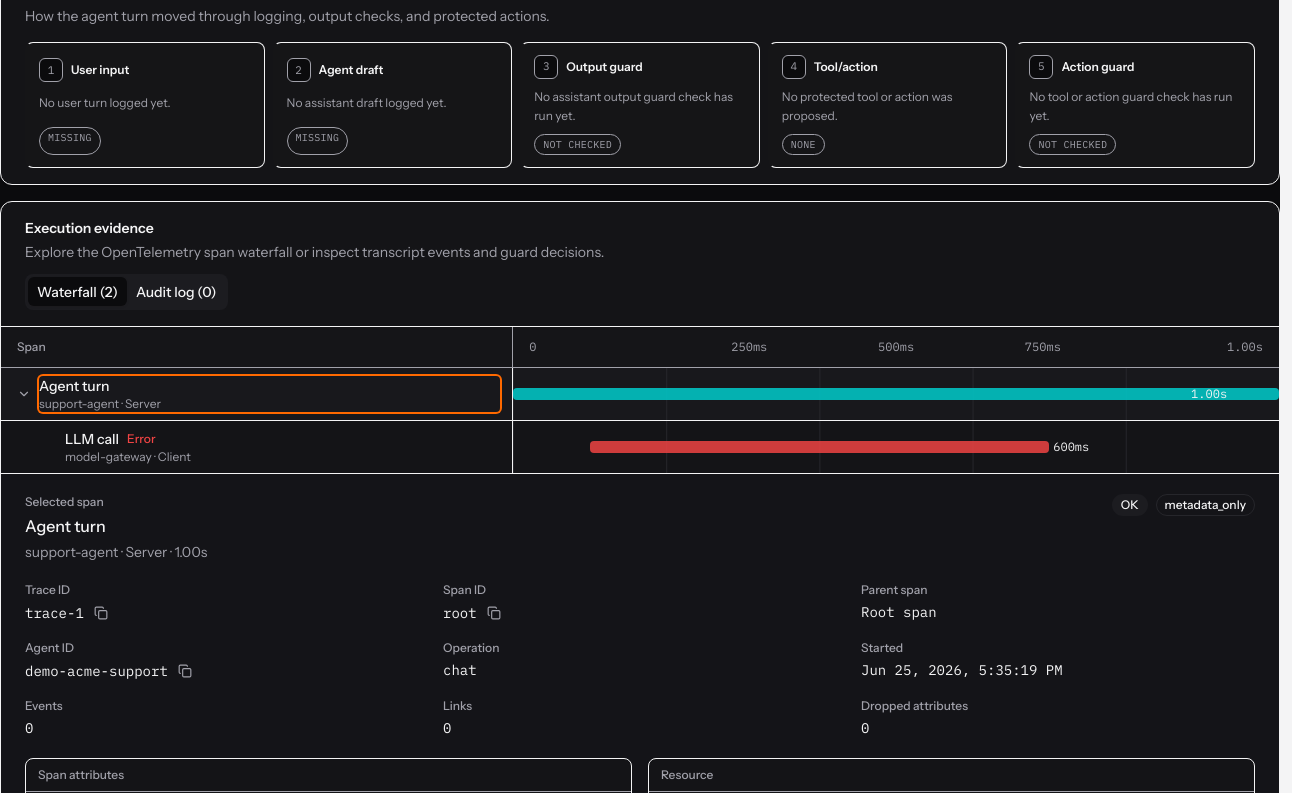
Scenario: RunDetailLiveView › renders an accessible span waterfall with tree navigation and collapse controls
(page scrolled)
Press Arrowdown
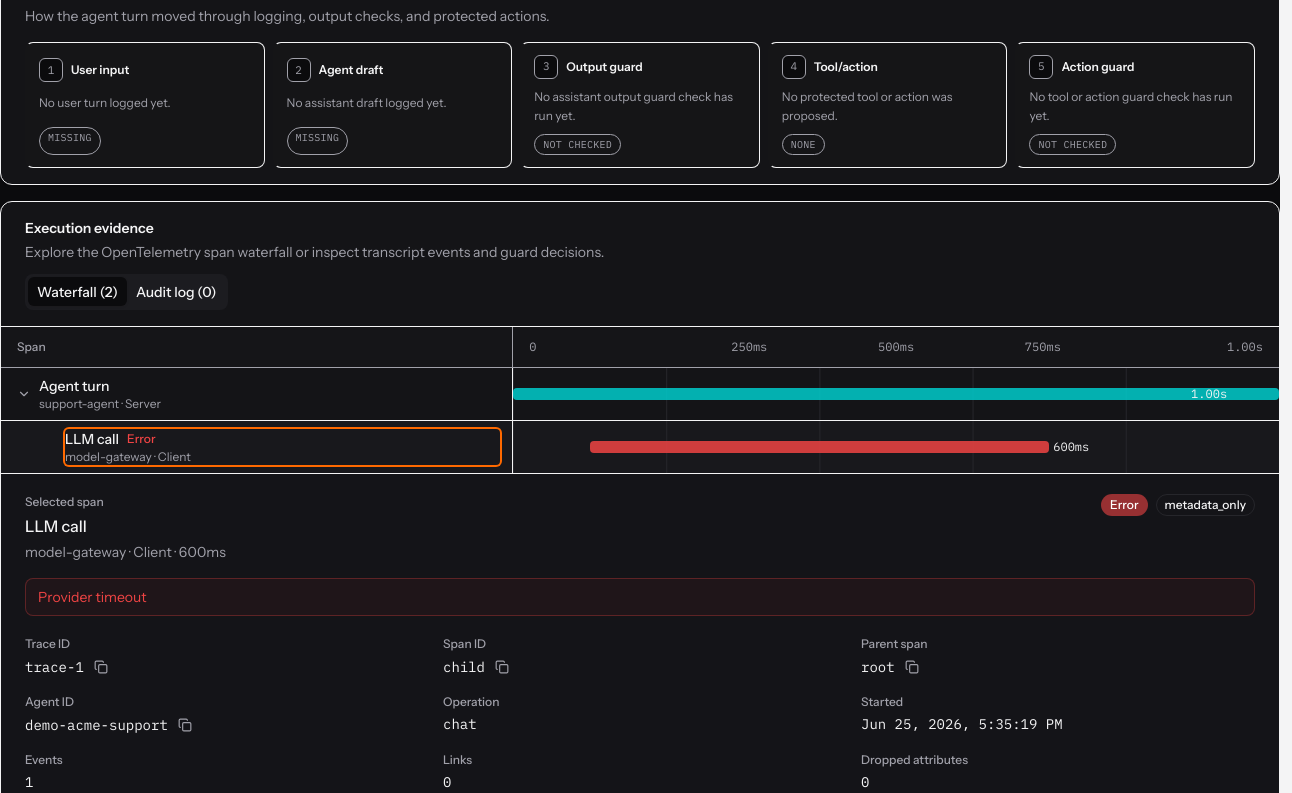
Expected: the heading "LLM call" is shown, [25,516,87,536]
Expected: the text "Provider timeout" is shown, [25,578,1255,616]
Click the button named "Collapse Agent turn" at (24, 394), box [13,382,35,404]
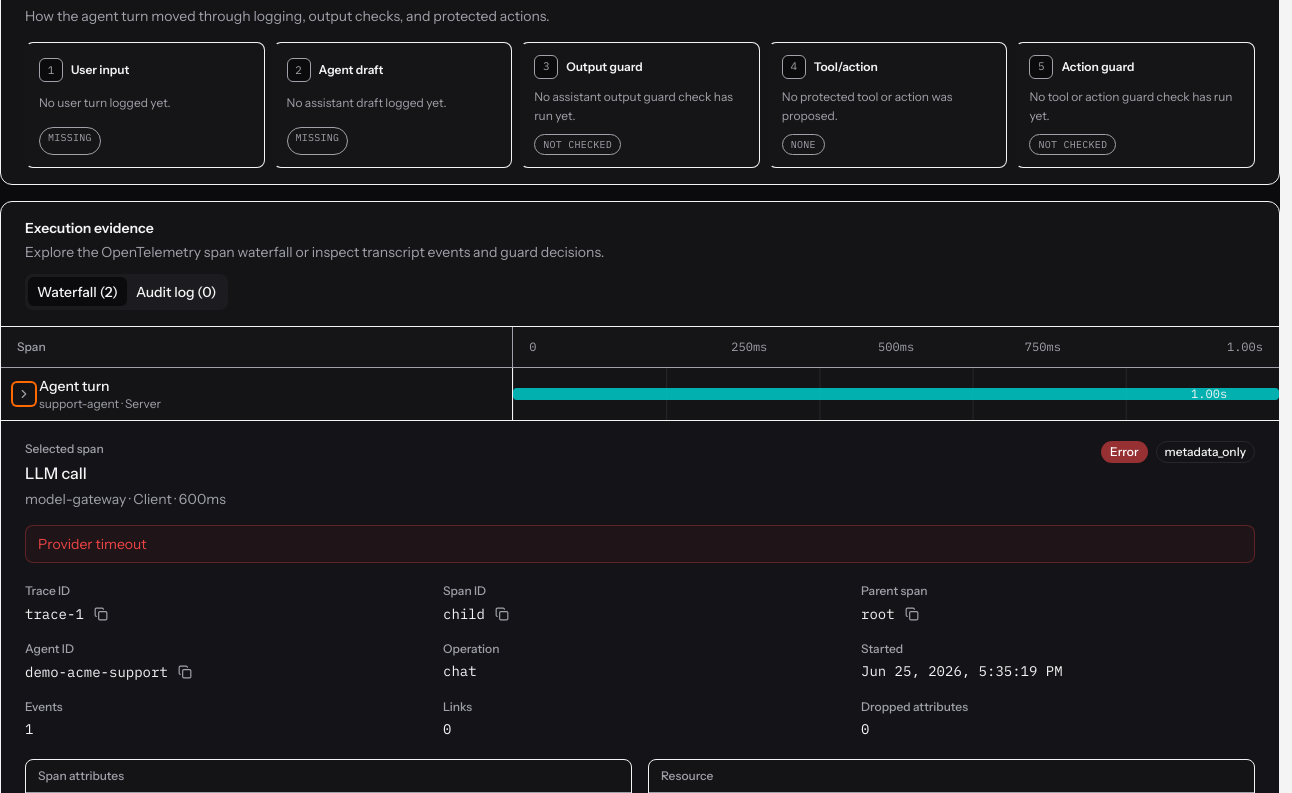
Click the button named "Expand Agent turn" at (24, 394), box [13,382,35,404]
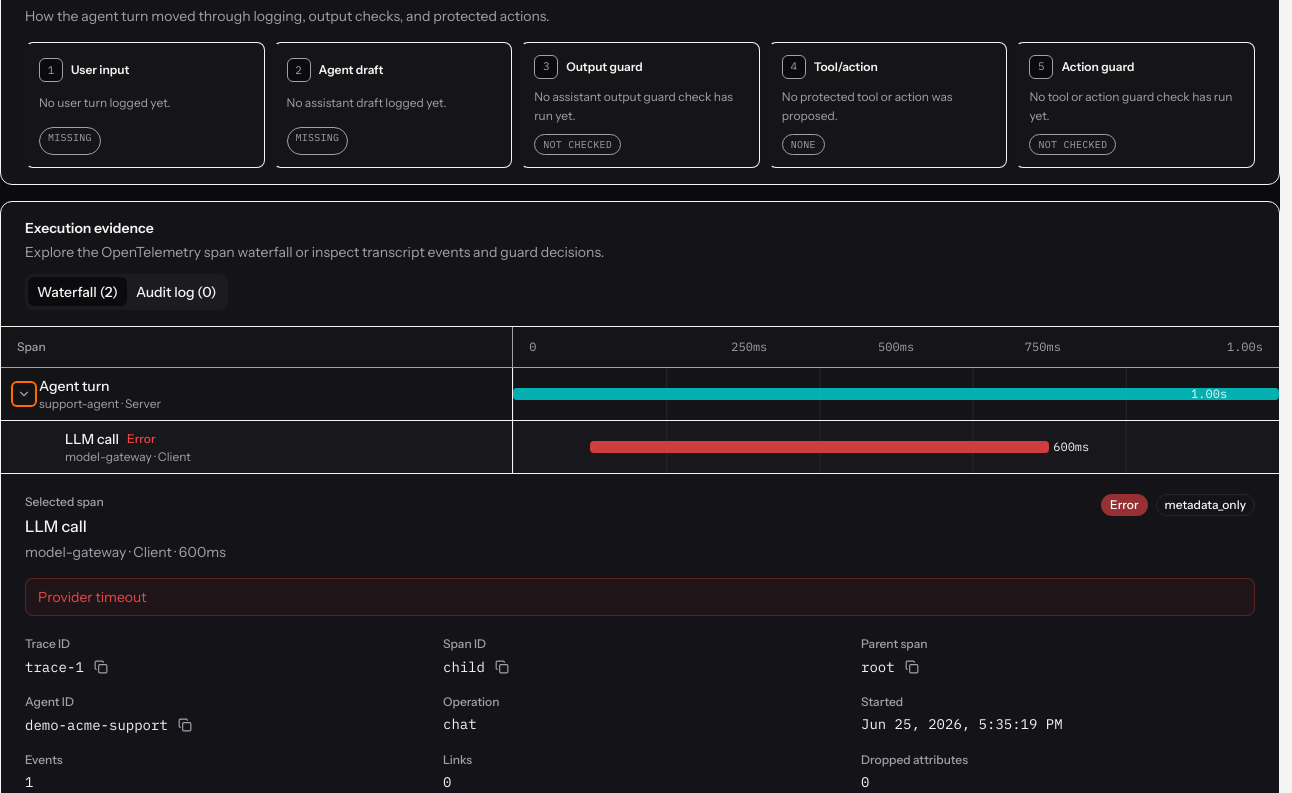
Click the tab "Audit log (0)" at (176, 292), box [127,277,225,306]
(page scrolled)
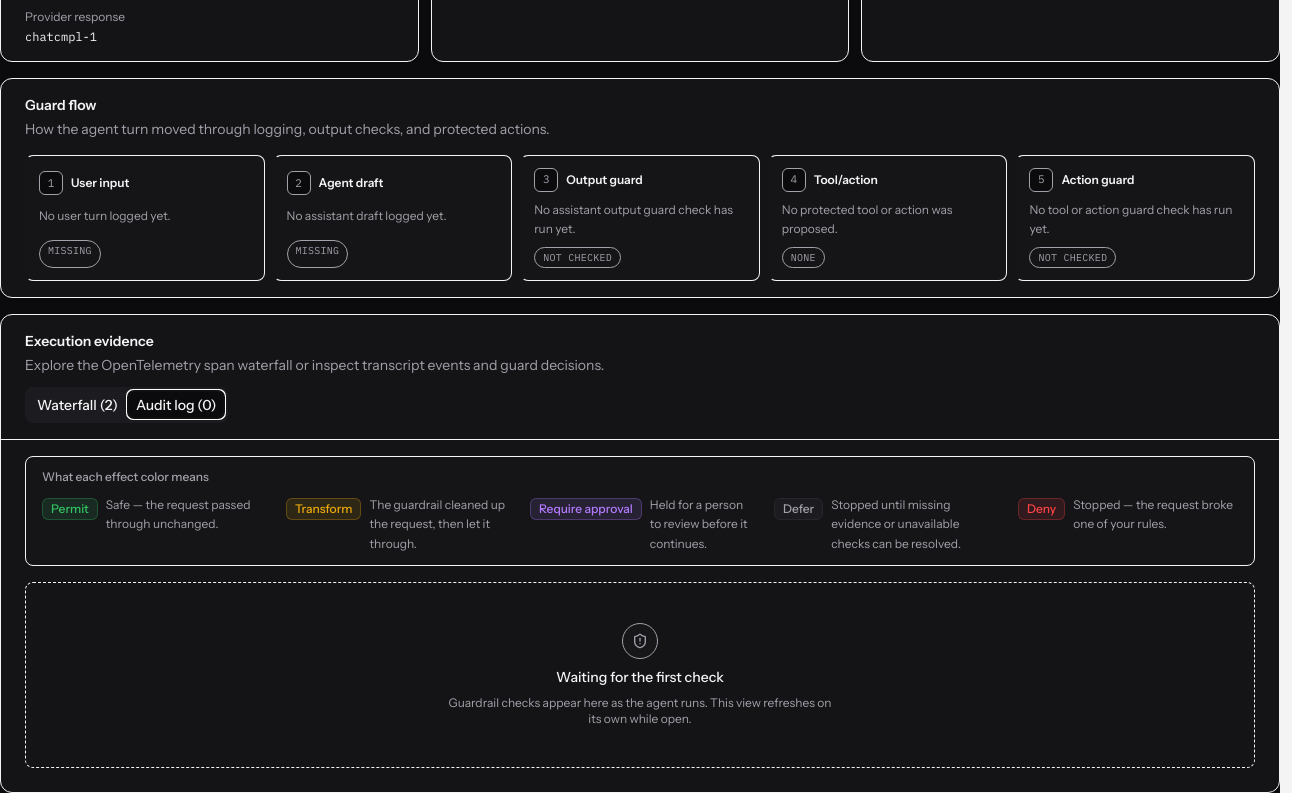
Expected: the text "Waiting for the first check" is shown, [556,667,724,687]
